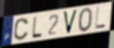2: (47, 13, 59, 36)
C: (13, 17, 30, 41)
L: (31, 15, 43, 39), (95, 7, 107, 30)
O: (78, 7, 94, 34)
V: (62, 9, 79, 35)
